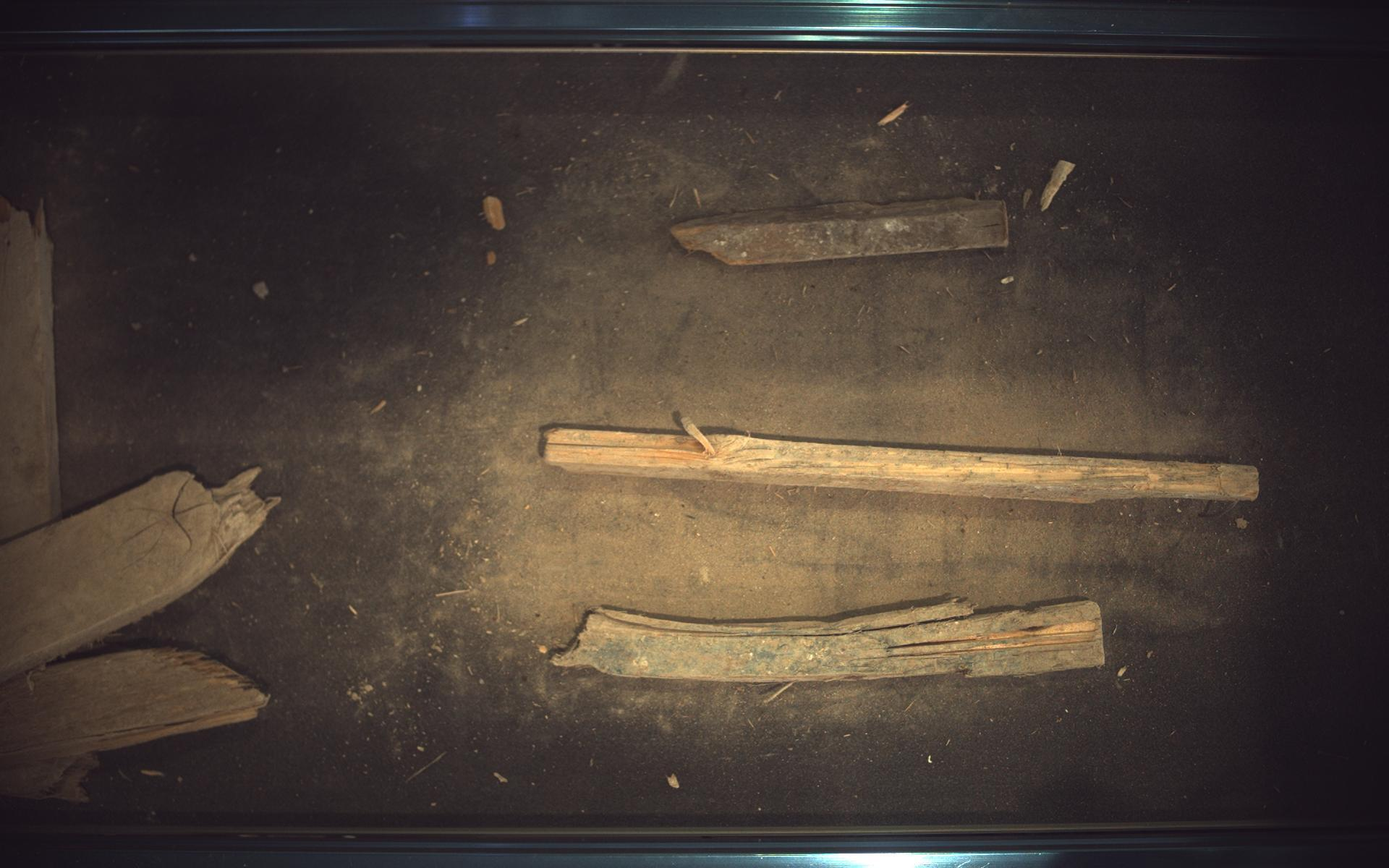wood: (543, 416, 1262, 503), (1, 469, 279, 683), (552, 598, 1108, 685), (1, 649, 268, 802), (671, 197, 1011, 265), (1, 196, 59, 540)
